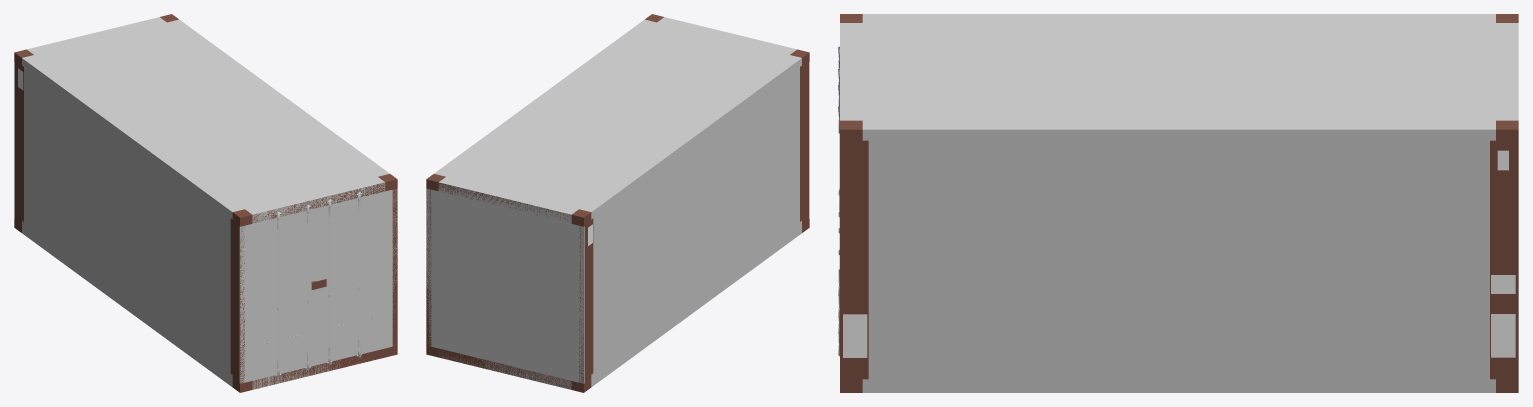
Rendered from s_containers_20_brown.dae.
3 views of the same model, side by side, from view 1: azimuth 30°, elevation 25°; view 2: azimuth 150°, elevation 25°; view 3: azimuth 270°, elevation 25° (orthographic). The views are drawn at different scales.
Visible parts, largest first — view 1: Colmesh_containers_20_brown-1, s_containers_20_brown_L700, s_containers_20_brown_L80, s_containers_20_brown_L300; view 2: Colmesh_containers_20_brown-1, s_containers_20_brown_L700, s_containers_20_brown_L80, s_containers_20_brown_L300; view 3: Colmesh_containers_20_brown-1, s_containers_20_brown_L700, s_containers_20_brown_L300, s_containers_20_brown_L80.
Boxes of the visible parts, bbox=[...] form: Colmesh_containers_20_brown-1: bbox=[14, 17, 397, 389]; s_containers_20_brown_L700: bbox=[14, 14, 397, 392]; s_containers_20_brown_L80: bbox=[240, 182, 397, 389]; s_containers_20_brown_L300: bbox=[14, 14, 397, 392]; Colmesh_containers_20_brown-1: bbox=[426, 17, 809, 389]; s_containers_20_brown_L700: bbox=[426, 14, 809, 392]; s_containers_20_brown_L80: bbox=[426, 183, 583, 389]; s_containers_20_brown_L300: bbox=[426, 14, 809, 392]; Colmesh_containers_20_brown-1: bbox=[840, 14, 1518, 392]; s_containers_20_brown_L700: bbox=[838, 14, 1518, 392]; s_containers_20_brown_L300: bbox=[839, 14, 1518, 392]; s_containers_20_brown_L80: bbox=[840, 143, 1518, 392].
Bounding box in the file's own units: 2.44 × 6.07 × 2.6.
